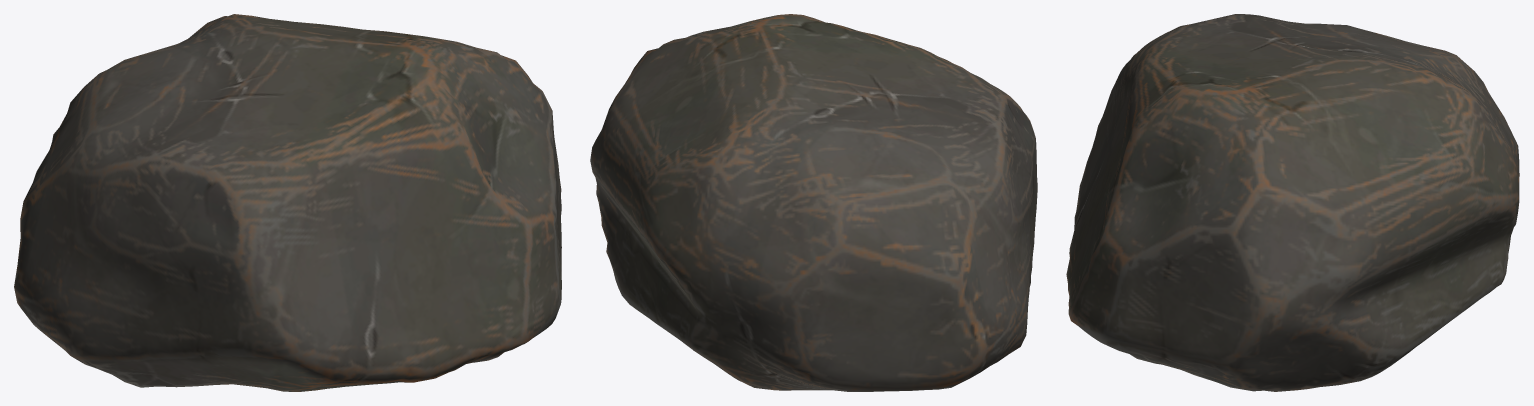
Rendered from rock.glb.
3 renders of one model, left to right at view 1: azimuth 30°, elevation 25°; view 2: azimuth 150°, elevation 25°; view 3: azimuth 270°, elevation 25°, orthographic. The views are drawn at different scales.
Parts seen in each view (by area): view 1: Object_2; view 2: Object_2; view 3: Object_2.
Boxes of the visible parts, x1=… form: Object_2: x1=14, y1=14, x2=561, y2=391; Object_2: x1=590, y1=14, x2=1037, y2=391; Object_2: x1=1066, y1=14, x2=1519, y2=391.
Bounding box in the file's own units: 90.44 × 53.49 × 78.76.
Materials: 1 (1 with a texture image).
